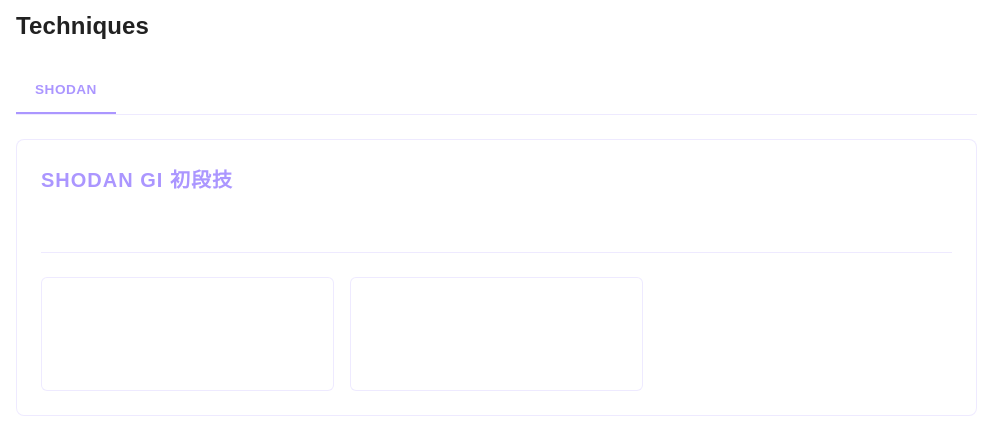
Techniques page › tab switching › shows Nidan suite content when the NIDAN GI 二段技 tab is clicked
The width and height of the screenshot is (994, 433).
Click the tab "Nidan": (166, 90) x1=116 y1=66 x2=216 y2=114
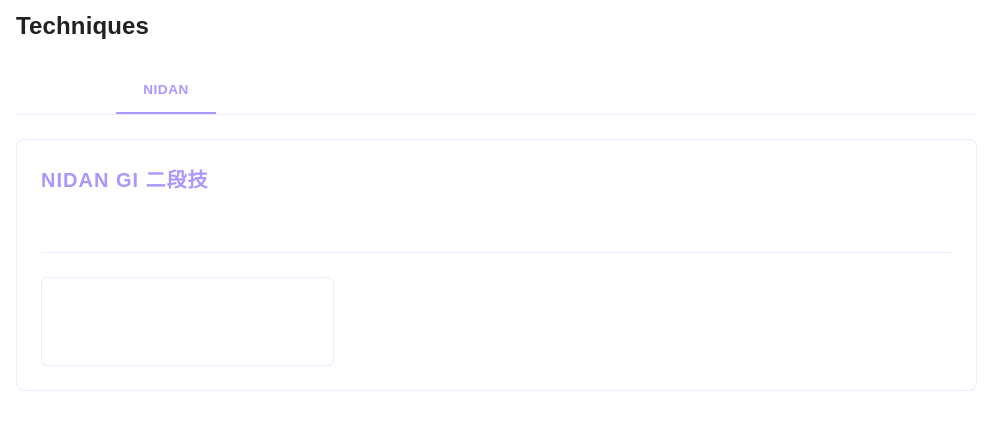
expect the heading "NIDAN GI 二段技" is shown: met, box x1=41 y1=169 x2=209 y2=191
